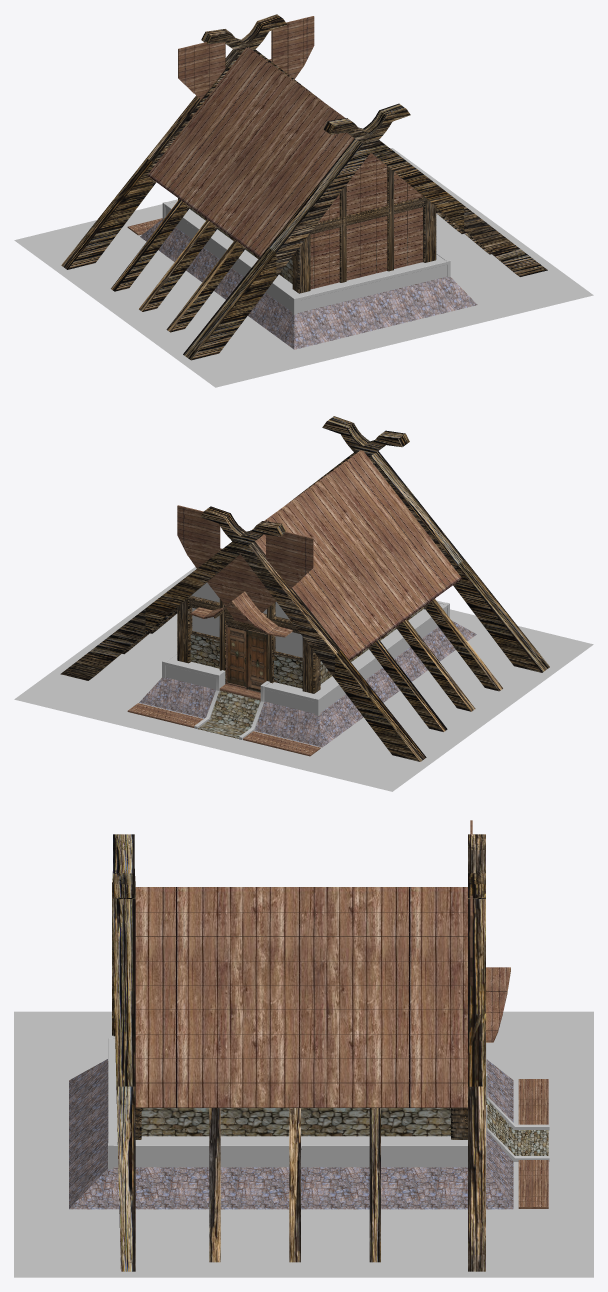
File: house2.FBX
3 views of the same model, one above another, from view 1: azimuth 30°, elevation 25°; view 2: azimuth 150°, elevation 25°; view 3: azimuth 270°, elevation 25° (orthographic). The views are drawn at different scales.
Visible parts, largest first — view 1: Plane001, Box002, Object010, Object006, Box039, Box018, Object009, Box038, Box035; view 2: Plane001, Box002, Object010, Object006, Box038, Box018, Object009, Object007, Box035, Object005, Box037, Box001 (+3 smaller); view 3: Object010, Plane001, Box002, Object006, Object009, Object007, Box035, Box037, Object005, Object008, Box018.
Boxes of the visible parts, left/top/right/bottom form: Plane001: left=14, top=148, right=593, bottom=387; Box002: left=61, top=14, right=547, bottom=360; Object010: left=147, top=47, right=354, bottom=257; Object006: left=140, top=219, right=477, bottom=349; Box039: left=310, top=153, right=423, bottom=289; Box018: left=178, top=166, right=436, bottom=293; Object009: left=165, top=201, right=446, bottom=312; Box038: left=178, top=16, right=314, bottom=99; Box035: left=162, top=199, right=450, bottom=314; Plane001: left=14, top=567, right=593, bottom=791; Box002: left=60, top=416, right=549, bottom=761; Object010: left=252, top=450, right=461, bottom=660; Object006: left=139, top=620, right=476, bottom=747; Box038: left=177, top=505, right=313, bottom=624; Box018: left=177, top=595, right=435, bottom=693; Object009: left=165, top=603, right=447, bottom=713; Object007: left=190, top=607, right=424, bottom=688; Box035: left=162, top=600, right=449, bottom=739; Object005: left=198, top=690, right=260, bottom=738; Box037: left=127, top=703, right=320, bottom=756; Box001: left=191, top=582, right=302, bottom=657; Object010: left=135, top=887, right=467, bottom=1107; Plane001: left=14, top=1011, right=593, bottom=1277; Box002: left=112, top=834, right=485, bottom=1271; Object006: left=69, top=1059, right=513, bottom=1209; Object009: left=113, top=1039, right=467, bottom=1167; Object007: left=141, top=1108, right=450, bottom=1136; Box035: left=108, top=1035, right=549, bottom=1169; Box037: left=518, top=1079, right=548, bottom=1208; Object005: left=486, top=1098, right=548, bottom=1155; Object008: left=486, top=967, right=510, bottom=1042; Box018: left=135, top=1108, right=467, bottom=1139.
Bounding box in the file's own units: 534 × 269 × 492.
